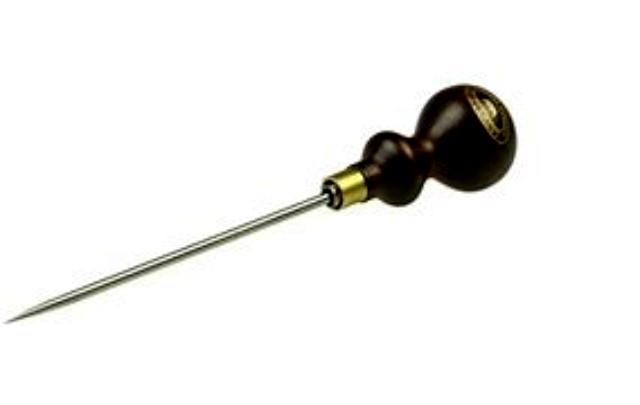ice pick: (0, 81, 522, 317)
